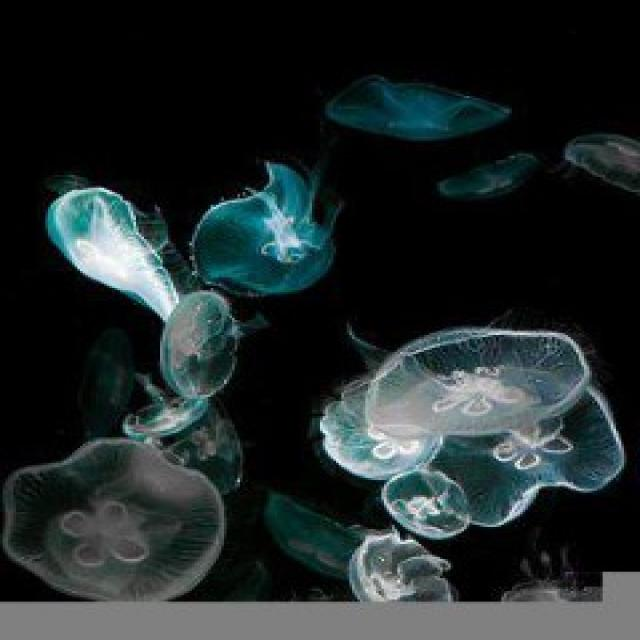Jellyfish: (0, 434, 232, 634), (347, 296, 588, 432), (451, 394, 640, 512), (190, 171, 366, 286), (322, 65, 521, 146), (302, 373, 435, 480), (123, 279, 248, 387), (419, 156, 551, 215), (386, 468, 490, 542), (560, 135, 640, 202), (110, 390, 209, 434)
